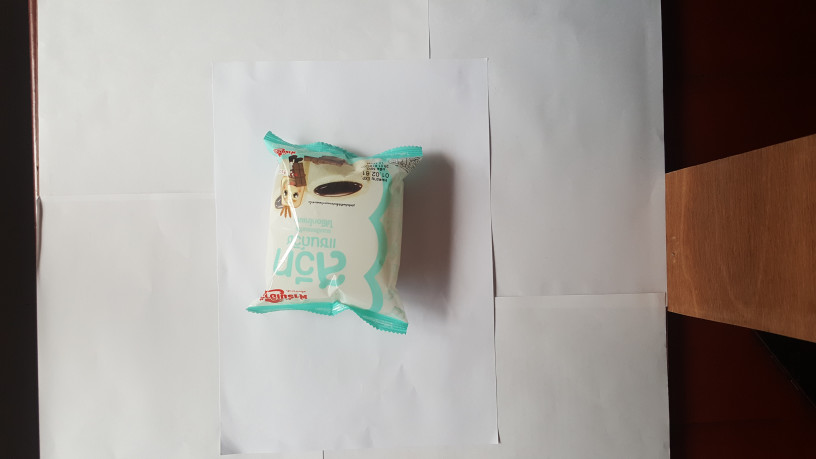farmhouse-sweetsandwich-chocolate: (242, 130, 430, 342)
